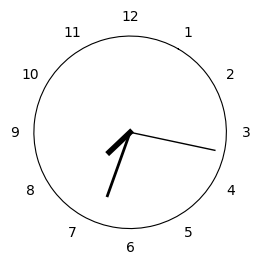12: (121, 9, 138, 22)
circle: (34, 36, 227, 229)
hours: (106, 129, 133, 156)
minutes: (106, 135, 127, 197)
seconds: (133, 132, 215, 150)
